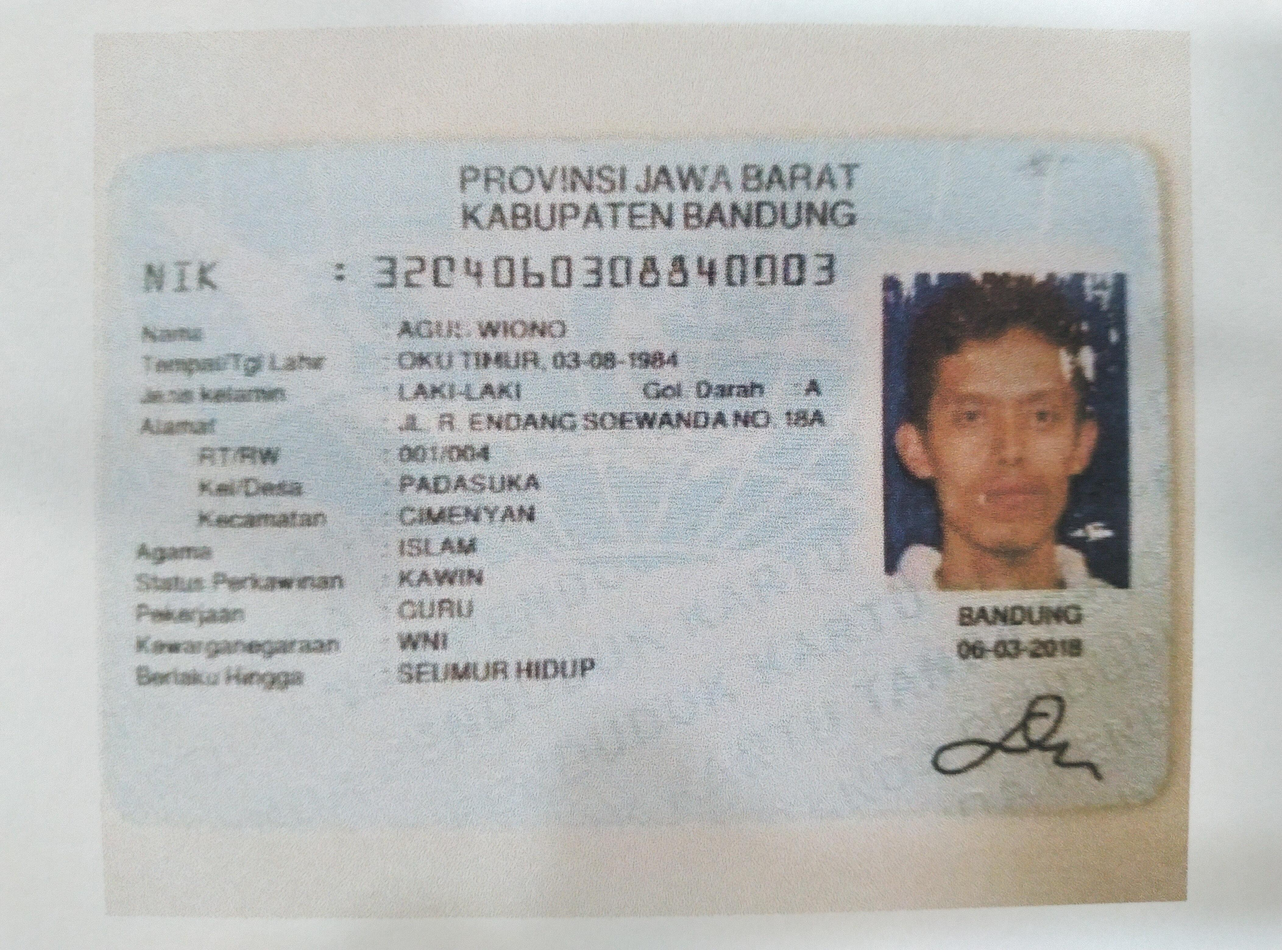ID-card: (105, 142, 1170, 812)
